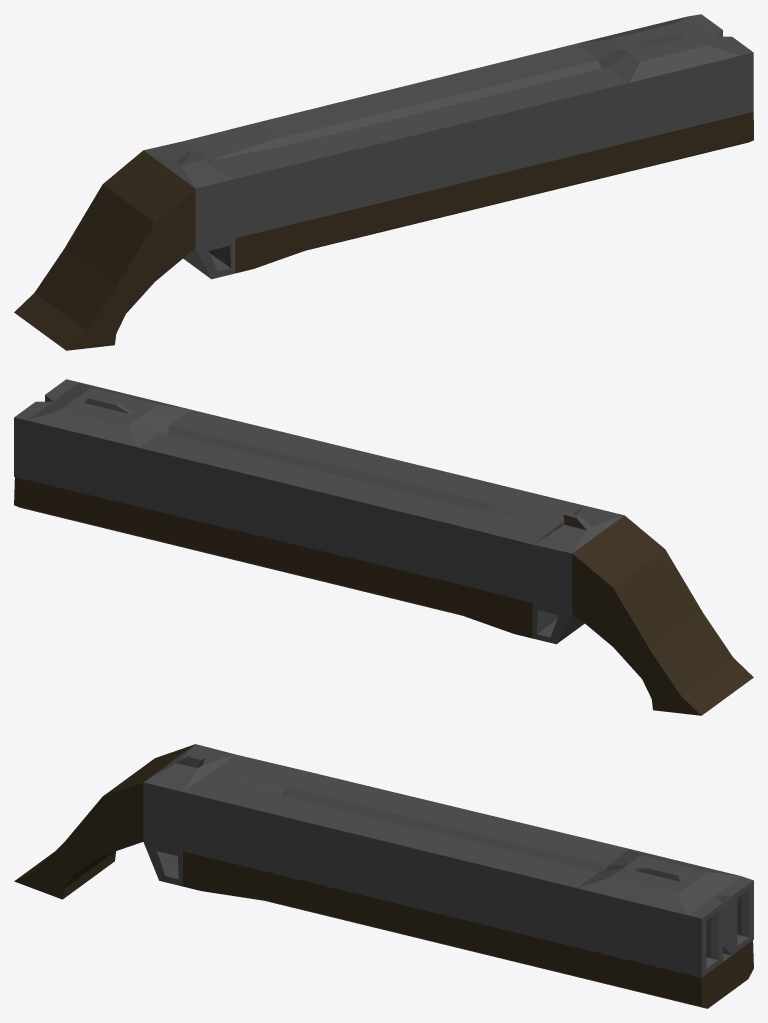
The model's file is double_shotty.fbx.
3 renders of one model, top to bottom at view 1: azimuth 30°, elevation 25°; view 2: azimuth 150°, elevation 25°; view 3: azimuth 330°, elevation 25°, orthographic.
Visible parts, largest first — view 1: Shotgun_Double; view 2: Shotgun_Double; view 3: Shotgun_Double.
Boxes of the visible parts, bbox=[...] form: Shotgun_Double: bbox=[14, 14, 753, 350]; Shotgun_Double: bbox=[14, 379, 753, 715]; Shotgun_Double: bbox=[14, 744, 753, 1008].
Bounding box in the file's own units: 498 × 103 × 66.21.
